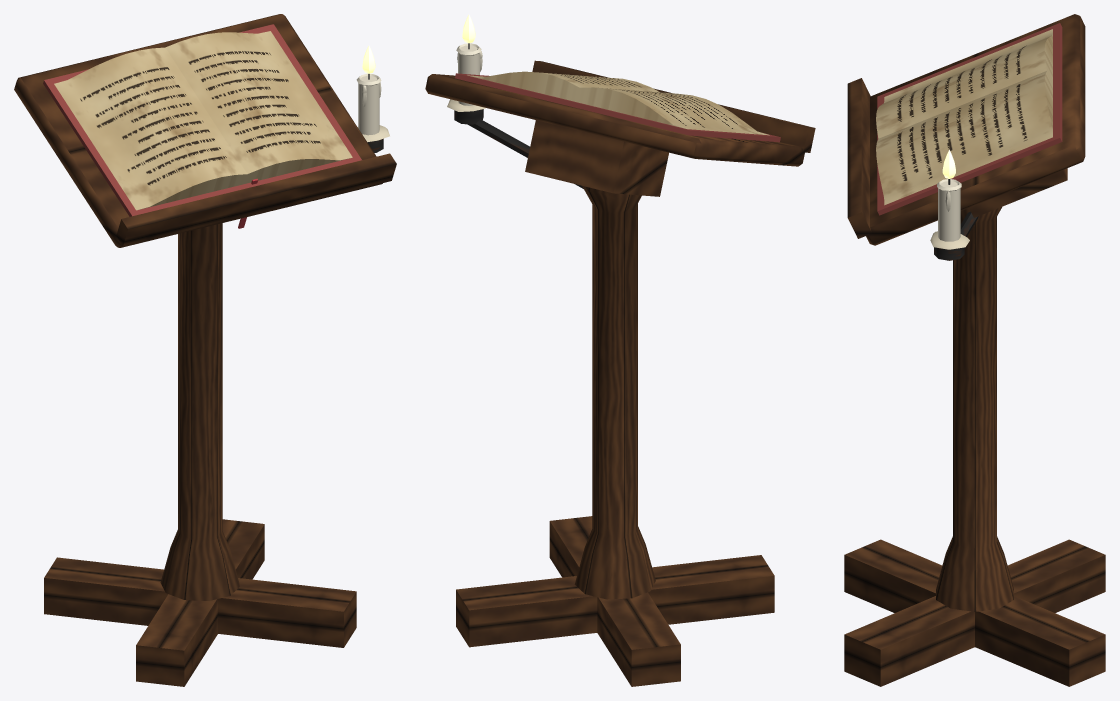
File: lectern.glb
3 renders of one model, left to right at view 1: azimuth 30°, elevation 25°; view 2: azimuth 150°, elevation 25°; view 3: azimuth 270°, elevation 25°, orthographic. The views are drawn at different scales.
Visible parts, largest first — view 1: lectern; view 2: lectern; view 3: lectern.
Part boxes in pixels (<box>): lectern: <box>14,14,396,686</box>; lectern: <box>425,14,815,686</box>; lectern: <box>844,14,1105,686</box>.
Size of the model in its own units: 0.7132 by 1.22 by 0.5091.
9 materials, 3 textured.
